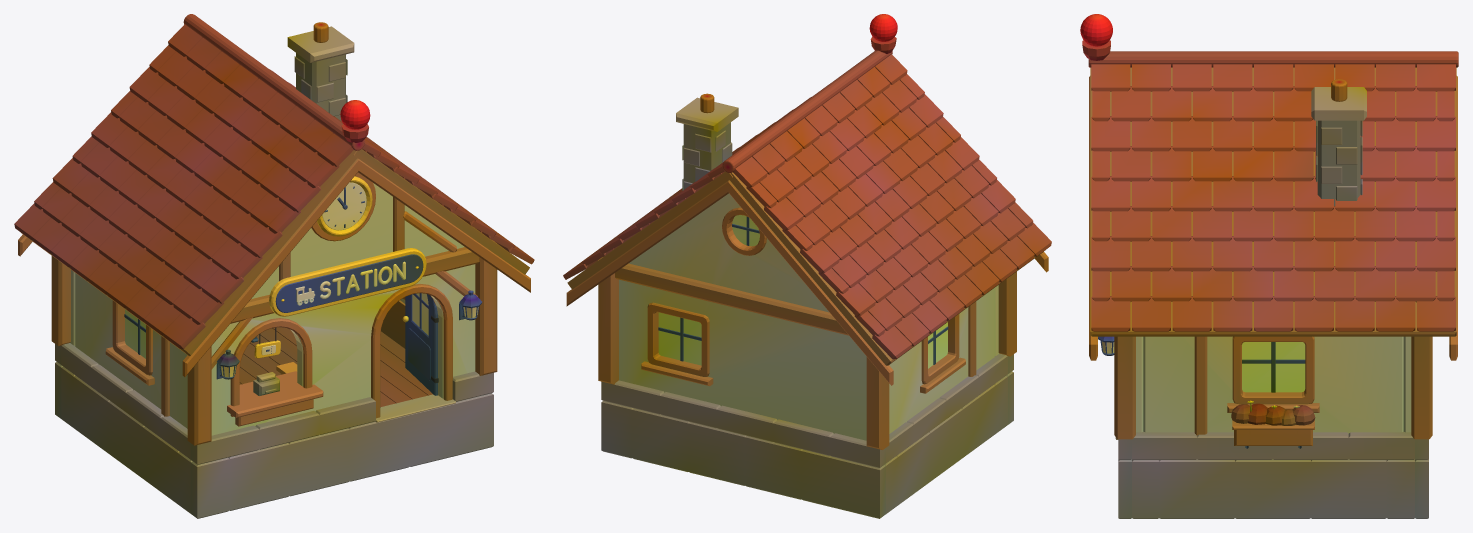
The model's file is Station_Building_Small.glb.
3 renders of one model, left to right at view 1: azimuth 30°, elevation 25°; view 2: azimuth 150°, elevation 25°; view 3: azimuth 270°, elevation 25°, orthographic. The views are drawn at different scales.
Visible parts, largest first — view 1: Roof, Walls, Plinth, Facade, Openings, Door, Interior, Sign_Name_Text; view 2: Roof, Walls, Plinth, Facade; view 3: Roof, Plinth, Walls, Facade.
Boxes of the visible parts, x1=… form: Roof: x1=14, y1=14, x2=534, y2=355; Walls: x1=18, y1=158, x2=530, y2=445; Plinth: x1=55, y1=327, x2=493, y2=518; Facade: x1=105, y1=172, x2=482, y2=385; Openings: x1=227, y1=284, x2=452, y2=426; Door: x1=402, y1=293, x2=438, y2=395; Interior: x1=276, y1=300, x2=405, y2=374; Sign_Name_Text: x1=320, y1=261, x2=405, y2=299; Roof: x1=563, y1=14, x2=1051, y2=365; Walls: x1=566, y1=180, x2=1048, y2=449; Plinth: x1=601, y1=353, x2=1013, y2=518; Facade: x1=641, y1=207, x2=965, y2=393; Roof: x1=1080, y1=14, x2=1458, y2=336; Plinth: x1=1115, y1=431, x2=1428, y2=518; Walls: x1=1089, y1=76, x2=1457, y2=439; Facade: x1=1098, y1=336, x2=1319, y2=448.
Bounding box in the file's own units: 7.07 × 7.43 × 5.99.
